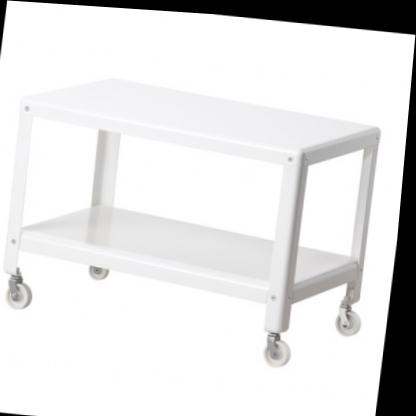Table: (0, 62, 396, 374)
